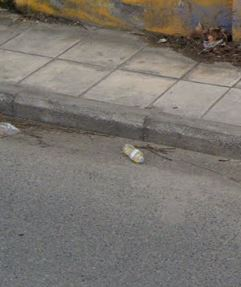trash: (116, 139, 153, 170)
